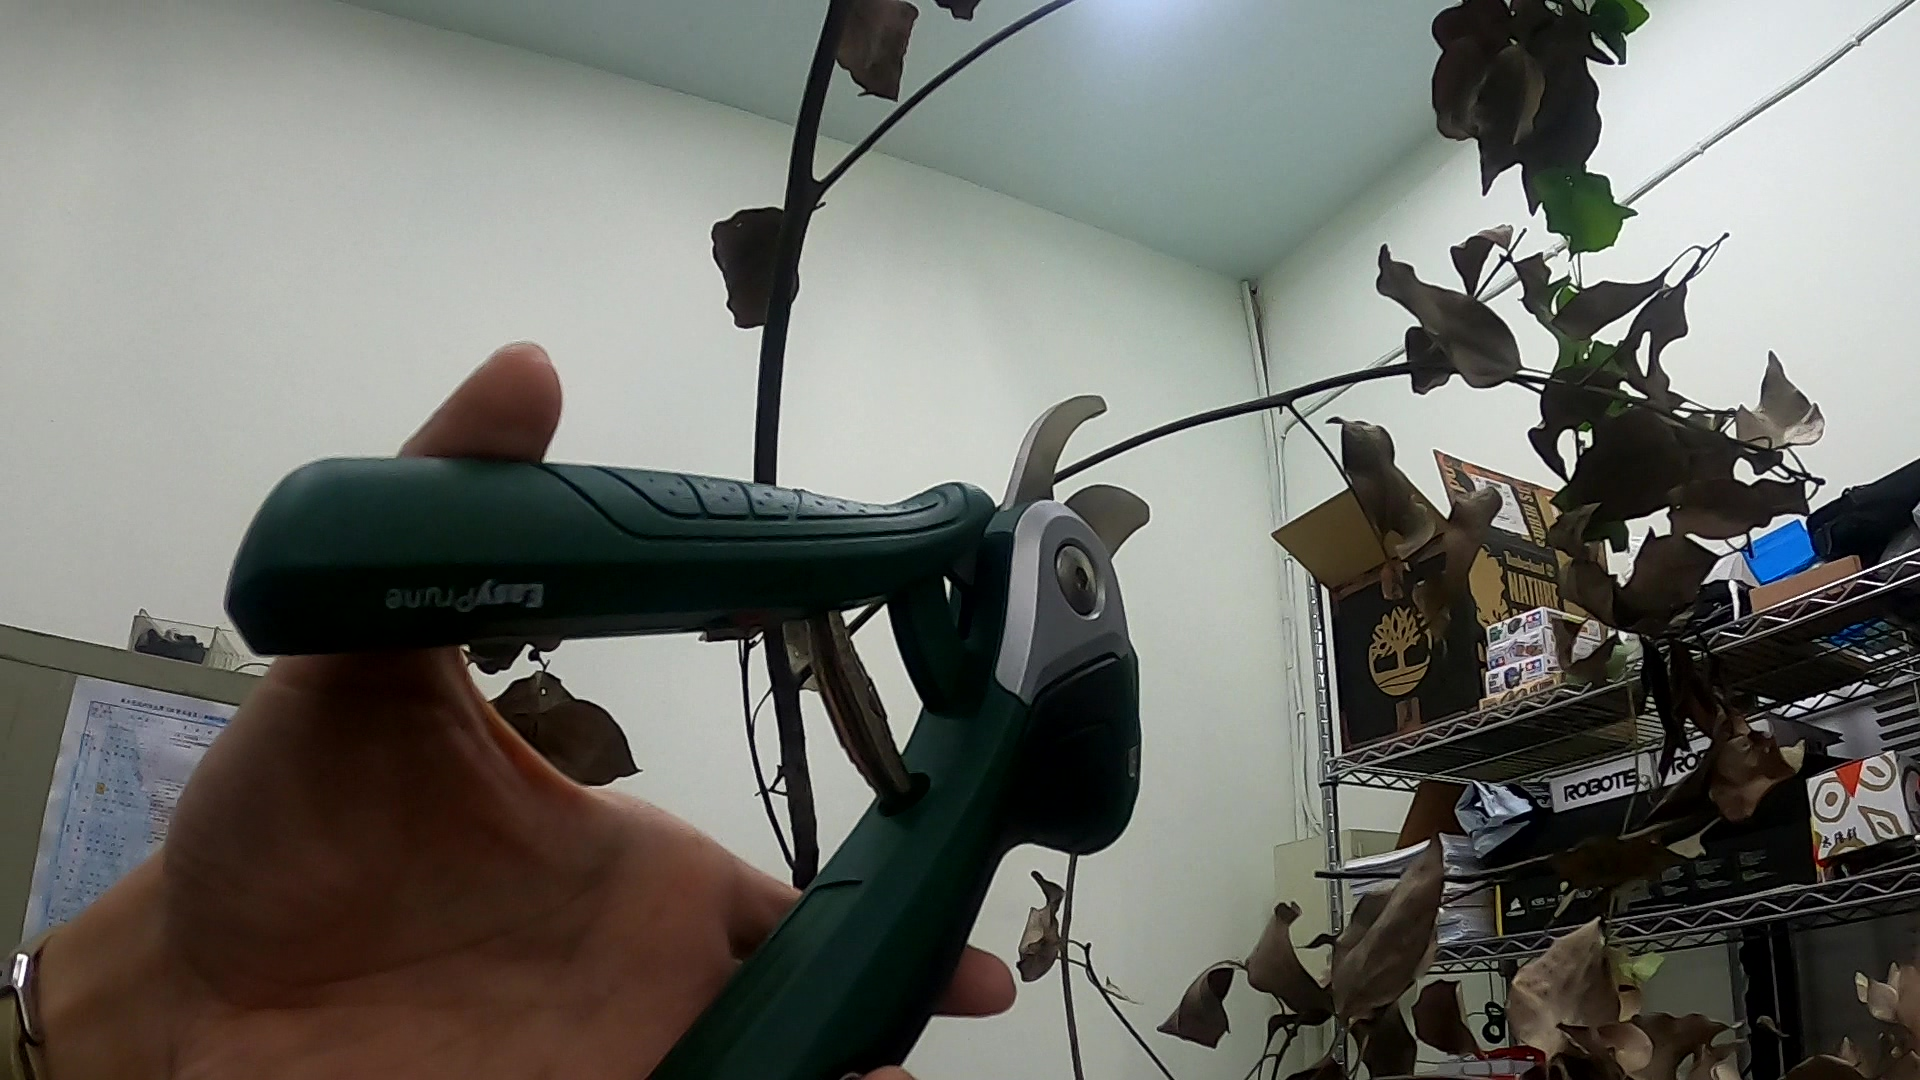ok: (245, 349, 1797, 1058)
scissors: (222, 389, 1168, 1080)
twig: (796, 349, 1811, 692), (819, 5, 1069, 190), (1288, 410, 1425, 665), (1584, 232, 1725, 384), (719, 636, 793, 870), (1180, 955, 1300, 1079), (1069, 938, 1171, 1080), (1611, 646, 1647, 947), (1457, 222, 1524, 328), (1055, 866, 1081, 1080)
